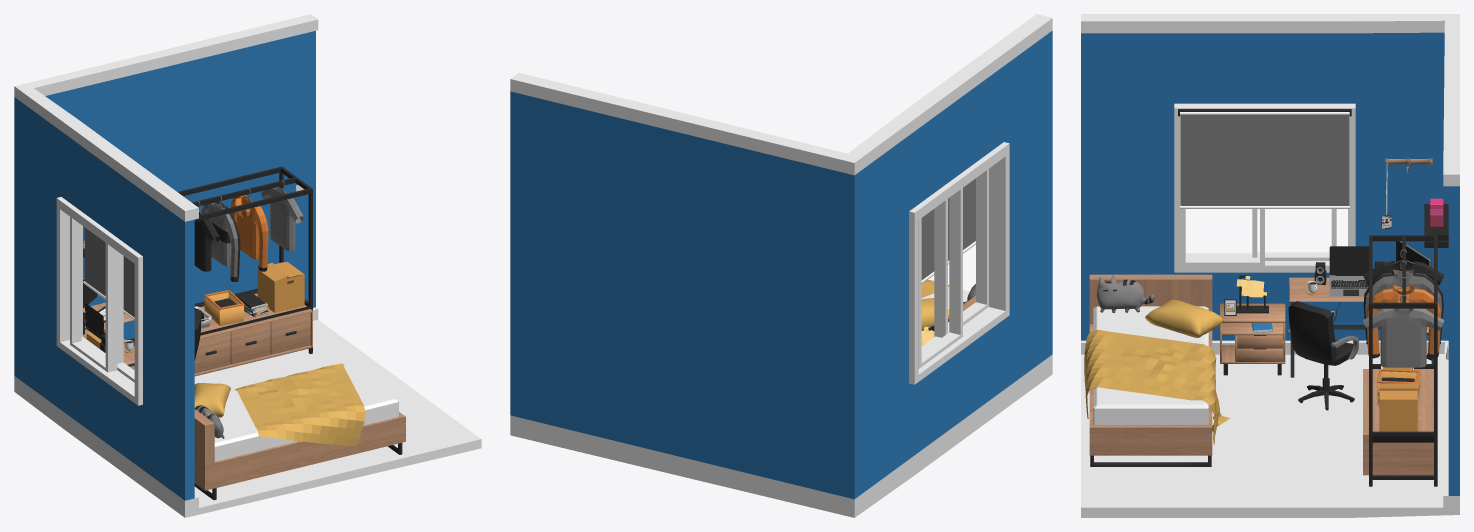
The model's file is Web - Copy.glb.
3 renders of one model, left to right at view 1: azimuth 30°, elevation 25°; view 2: azimuth 150°, elevation 25°; view 3: azimuth 270°, elevation 25°, orthographic. The views are drawn at different scales.
Parts seen in each view (by area): view 1: Room, PC; view 2: Room; view 3: Room, Chair, PC, Pusheen, Lamp.
Boxes of the visible parts, bbox=[...] form: Room: bbox=[14, 14, 481, 517]; PC: bbox=[83, 277, 124, 348]; Room: bbox=[510, 14, 1052, 517]; Room: bbox=[1081, 14, 1459, 517]; Chair: bbox=[1287, 301, 1359, 410]; PC: bbox=[1329, 241, 1431, 320]; Pusheen: bbox=[1097, 274, 1154, 312]; Lamp: bbox=[1236, 275, 1268, 313].
Bounding box in the file's own units: 3.15 × 3.09 × 3.09.
16 materials, 6 textured.
